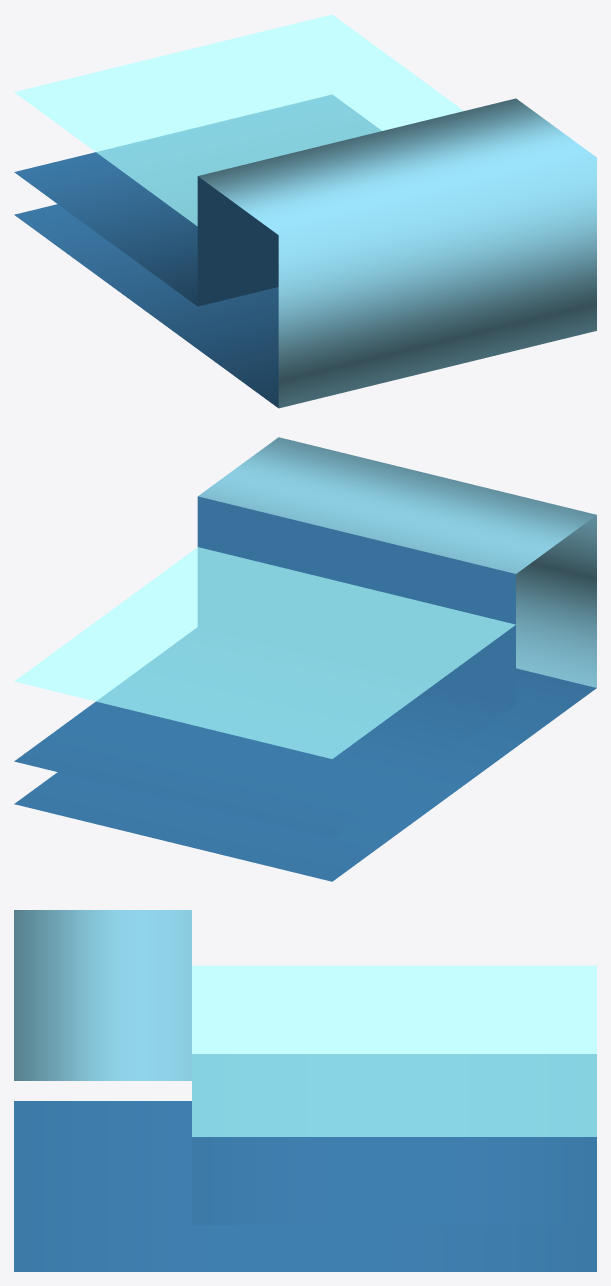
The model's file is track_straight.glb.
The picture shows the model from 3 angles, top to bottom: view 1: azimuth 30°, elevation 25°; view 2: azimuth 150°, elevation 25°; view 3: azimuth 270°, elevation 25°; orthographic projection. The views are drawn at different scales.
Parts seen in each view (by area): view 1: Track_Straight; view 2: Track_Straight; view 3: Track_Straight.
Boxes of the visible parts, <box> form: Track_Straight: <box>14,14,596,408</box>; Track_Straight: <box>14,437,596,881</box>; Track_Straight: <box>14,910,596,1271</box>.
Size of the model in its own units: 1 by 0.52 by 1.44.
